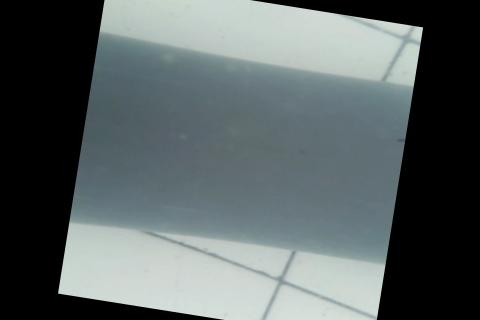keretakan: (392, 133, 405, 144)
